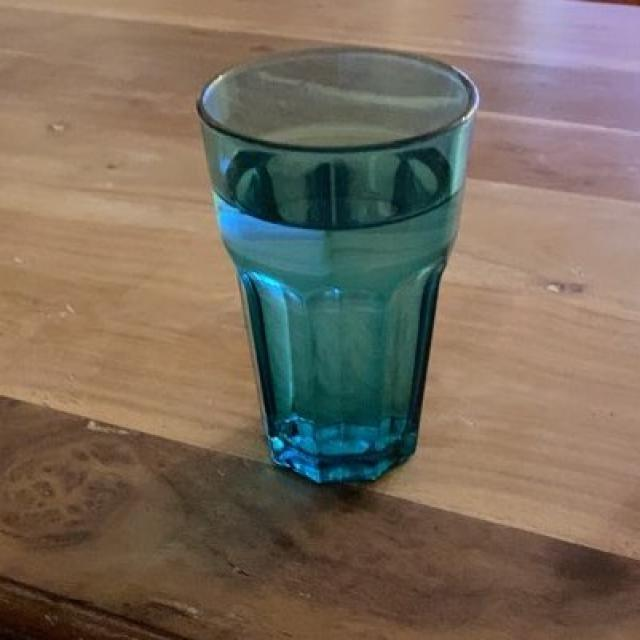water: (216, 98, 457, 474)
